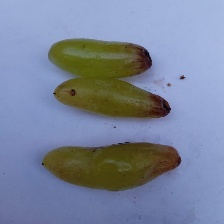grapes: (25, 20, 175, 184)
